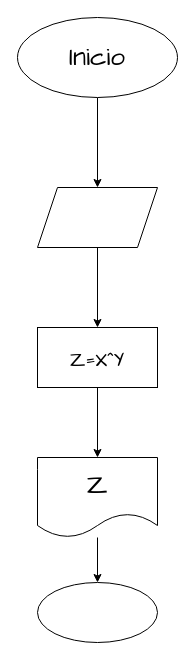
Some shapes in this 195 by 660 pixel diagram are drawn without their labels. The centre of each missing label's shape, as x and y in pixels:
"Fin" belongs at point (97, 612).
"X;Y" belongs at point (97, 217).
